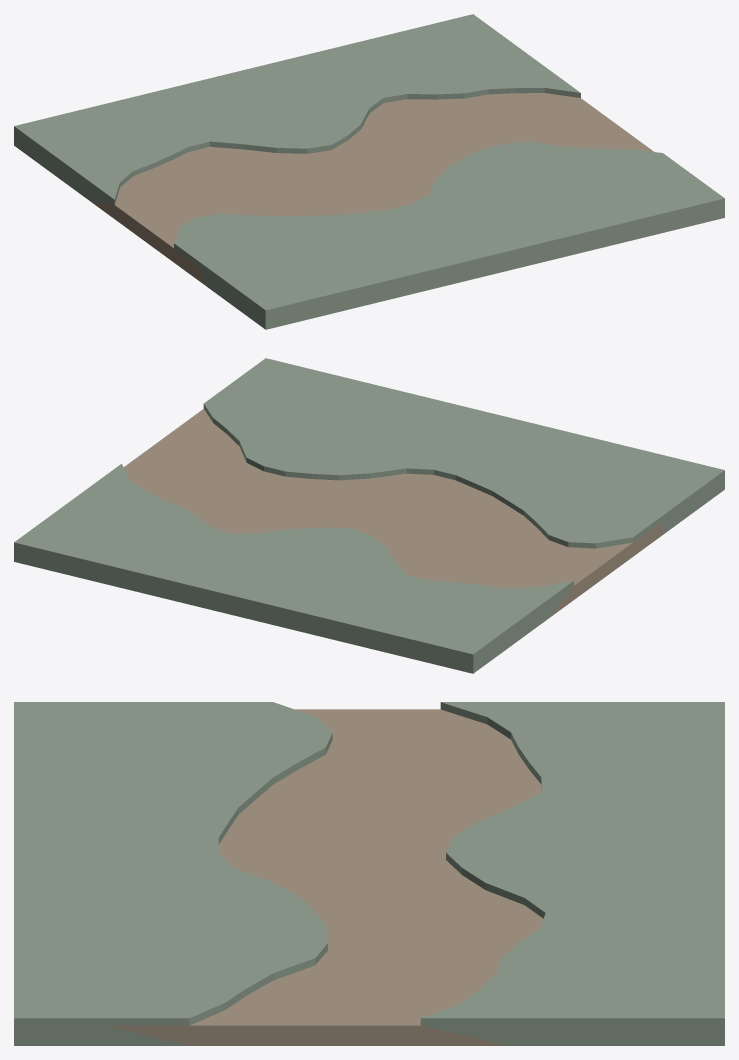
Rendered from page10+11.fbx.
The picture shows the model from 3 angles, top to bottom: view 1: azimuth 30°, elevation 25°; view 2: azimuth 150°, elevation 25°; view 3: azimuth 270°, elevation 25°; orthographic projection. The views are drawn at different scales.
Parts seen in each view (by area): view 1: pCube3; view 2: pCube3; view 3: pCube3.
Part boxes in pixels (x1=…): pCube3: x1=14, y1=14, x2=724, y2=329; pCube3: x1=14, y1=358, x2=724, y2=673; pCube3: x1=14, y1=702, x2=724, y2=1045.
Bounding box in the file's own units: 16.84 × 0.6808 × 16.
